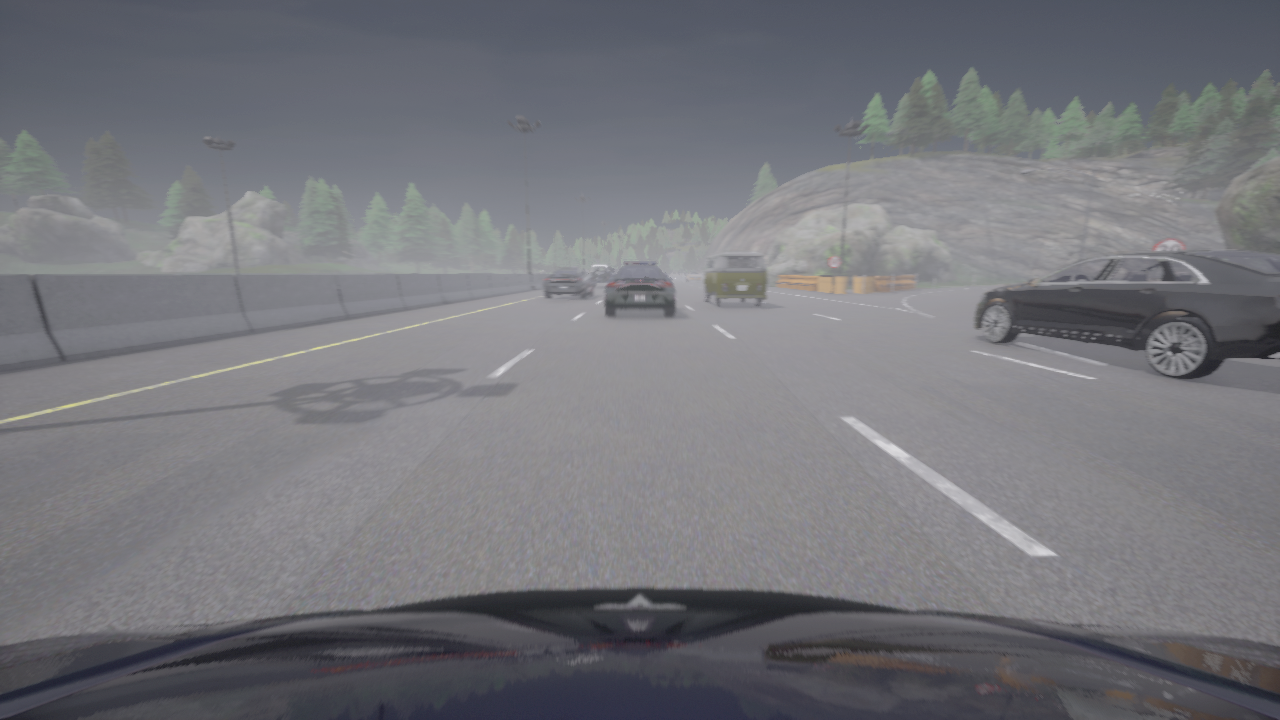cyclist: (0, 588, 1279, 719), (975, 249, 1279, 379), (605, 262, 674, 316), (702, 251, 766, 306), (543, 267, 592, 298), (590, 264, 613, 285), (685, 271, 701, 282)
